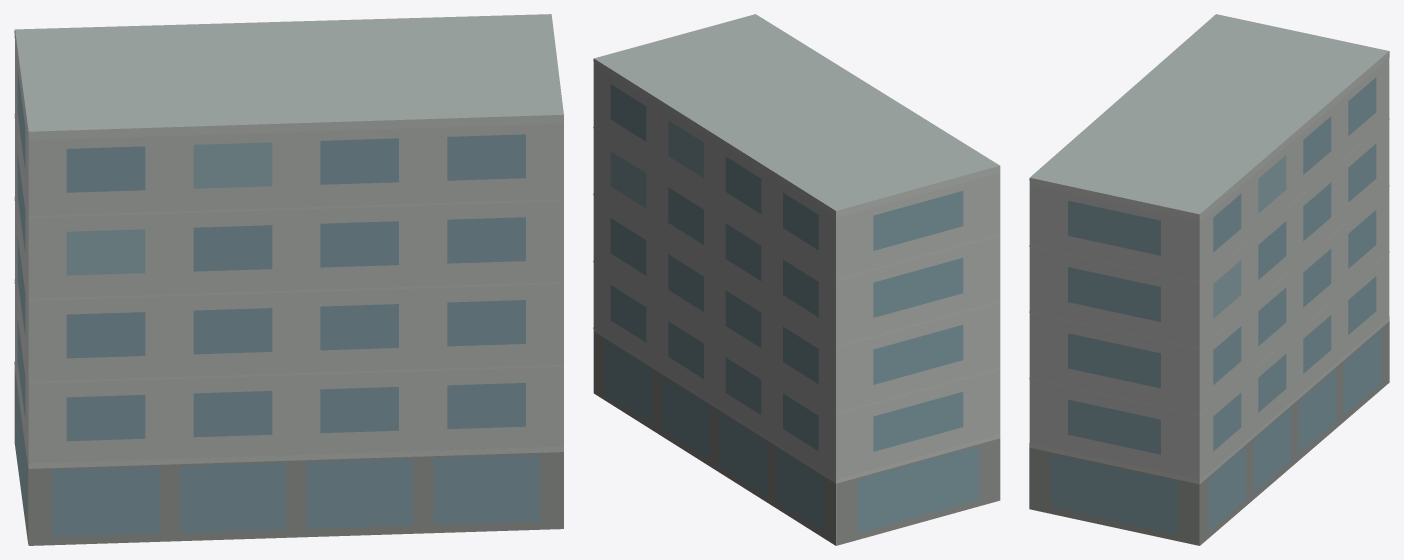
File: survey-upis-32733028.glb
3 views of the same model, side by side, from view 1: azimuth 30°, elevation 25°; view 2: azimuth 150°, elevation 25°; view 3: azimuth 270°, elevation 25° (orthographic). The views are drawn at different scales.
Visible parts, largest first — view 1: survey-upis-32733028.tmp; view 2: survey-upis-32733028.tmp; view 3: survey-upis-32733028.tmp.
Part boxes in pixels (x1=…): survey-upis-32733028.tmp: x1=14, y1=14, x2=563, y2=545; survey-upis-32733028.tmp: x1=593, y1=14, x2=1000, y2=545; survey-upis-32733028.tmp: x1=1029, y1=14, x2=1389, y2=545.
Bounding box in the file's own units: 14.93 × 11.5 × 11.34.
